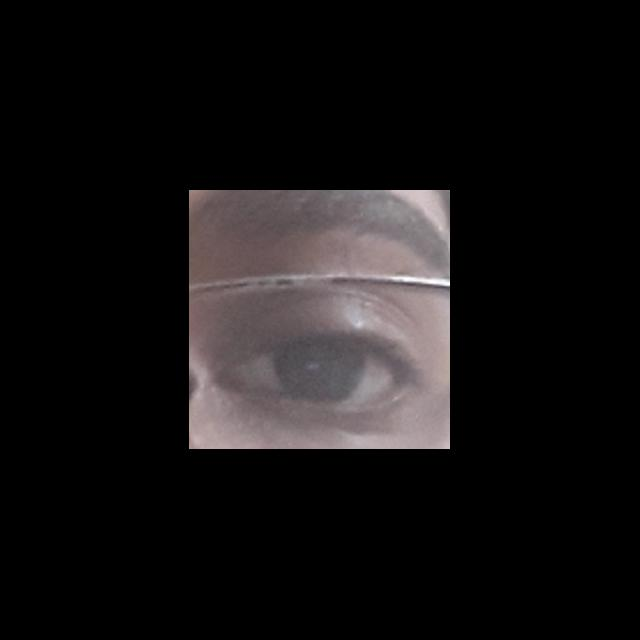eye: (238, 335, 406, 406)
iris: (274, 338, 364, 403)
